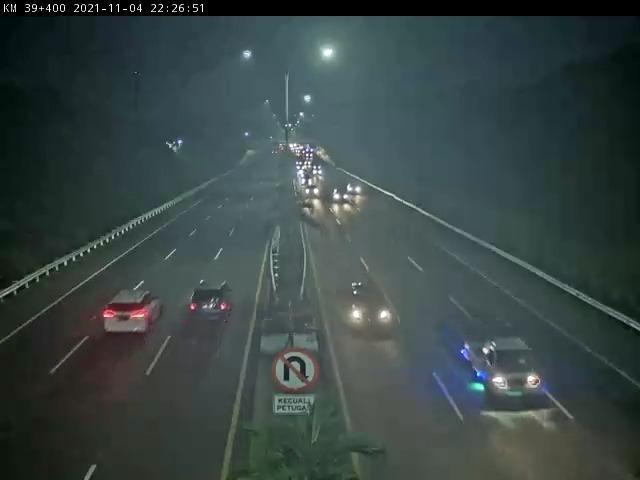car: (344, 281, 395, 338), (102, 292, 162, 336), (191, 279, 236, 327)
truck: (461, 329, 542, 401)
